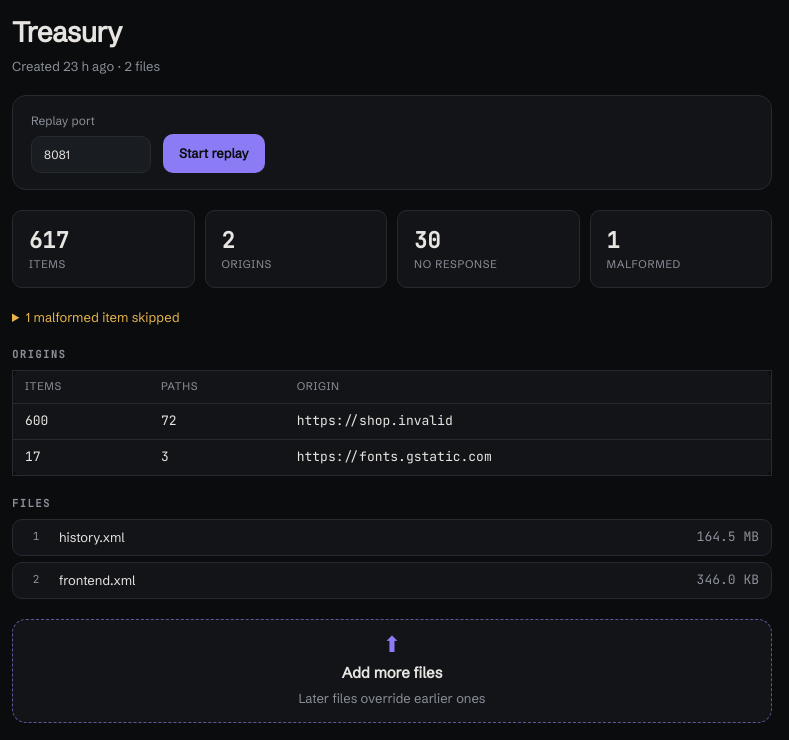
it: an invalid port () disables Start
Clear the field labelled "Replay port" at (91, 154), box [31,136,151,173]
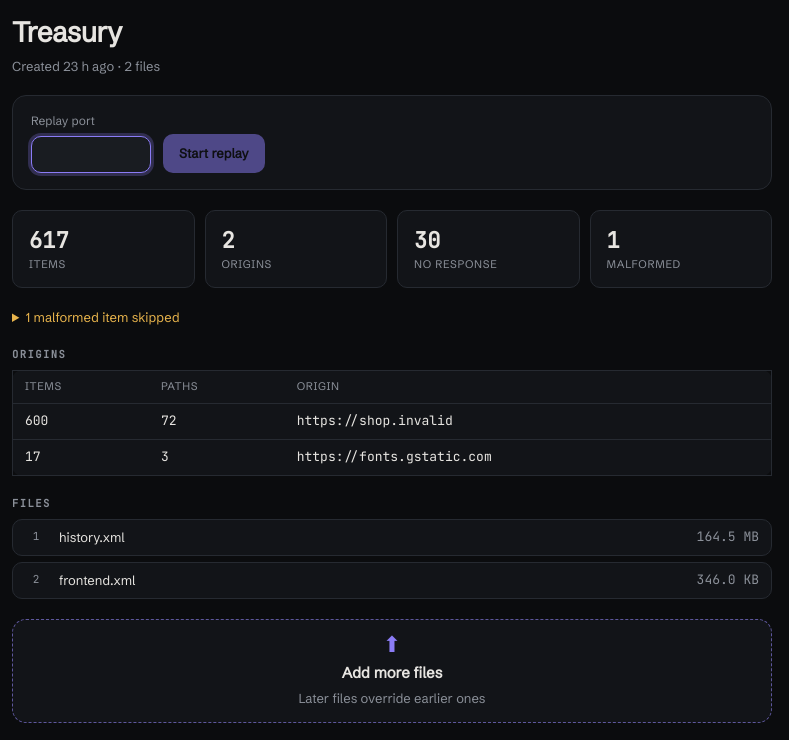
expect the button "Start replay" is disabled: met, box [163,134,265,173]
